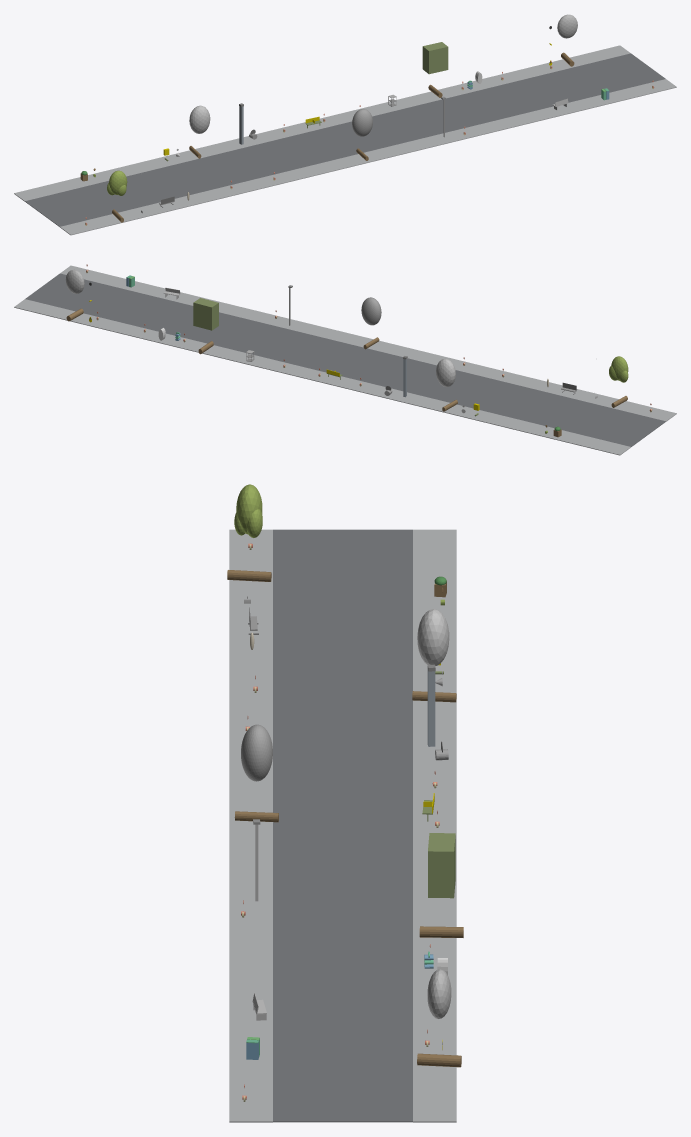
The picture shows the model from 3 angles, top to bottom: view 1: azimuth 30°, elevation 25°; view 2: azimuth 150°, elevation 25°; view 3: azimuth 270°, elevation 25°; orthographic projection. The views are drawn at different scales.
Parts seen in each view (by area): view 1: road_slab, sidewalk_left, sidewalk_right, inst_0015, inst_0013, inst_0014, inst_0016, inst_0012; view 2: road_slab, sidewalk_right, sidewalk_left, inst_0015, inst_0014, inst_0013, inst_0012, inst_0016; view 3: road_slab, sidewalk_left, sidewalk_right, inst_0015, inst_0014, inst_0013, inst_0012, inst_0016.
Part boxes in pixels (box(x1,y1,x2,y2)): road_slab: box(25, 53, 665, 226); sidewalk_left: box(60, 79, 676, 235); sidewalk_right: box(14, 45, 630, 201); inst_0015: box(422, 42, 448, 97); inst_0013: box(189, 105, 210, 158); inst_0014: box(352, 109, 372, 160); inst_0016: box(557, 14, 577, 66); inst_0012: box(107, 170, 127, 222); road_slab: box(25, 273, 665, 446); sidewalk_right: box(14, 299, 630, 455); sidewalk_left: box(60, 265, 676, 421); inst_0015: box(193, 298, 218, 354); inst_0014: box(361, 297, 381, 349); inst_0013: box(436, 358, 457, 411); inst_0012: box(609, 356, 628, 407); inst_0016: box(65, 269, 84, 321); road_slab: box(273, 529, 412, 1122); sidewalk_left: box(229, 529, 272, 1122); sidewalk_right: box(413, 529, 456, 1122); inst_0015: box(419, 833, 463, 937); inst_0014: box(234, 724, 278, 822); inst_0013: box(412, 609, 456, 702); inst_0012: box(227, 484, 271, 581); inst_0016: box(417, 969, 461, 1067).
Size of the model in its own units: 80 by 6.08 by 13.52.
